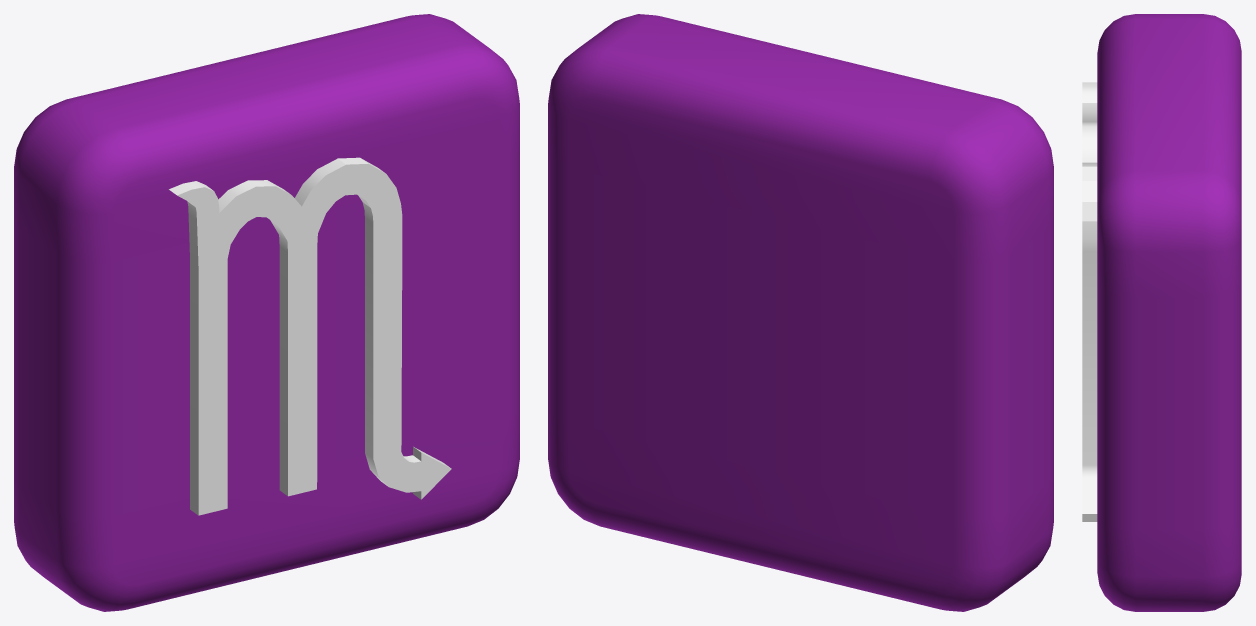
The model's file is scorpio.glb.
3 views of the same model, side by side, from view 1: azimuth 30°, elevation 25°; view 2: azimuth 150°, elevation 25°; view 3: azimuth 270°, elevation 25° (orthographic). The views are drawn at different scales.
Visible parts, largest first — view 1: Cube.6406; view 2: Cube.6406; view 3: Cube.6406.
Boxes of the visible parts, left/top/right/bottom form: Cube.6406: left=14, top=14, right=519, bottom=611; Cube.6406: left=548, top=14, right=1053, bottom=611; Cube.6406: left=1082, top=14, right=1241, bottom=611.
Size of the model in its own units: 2.2 by 2.2 by 0.73.
1 material, 1 textured.
